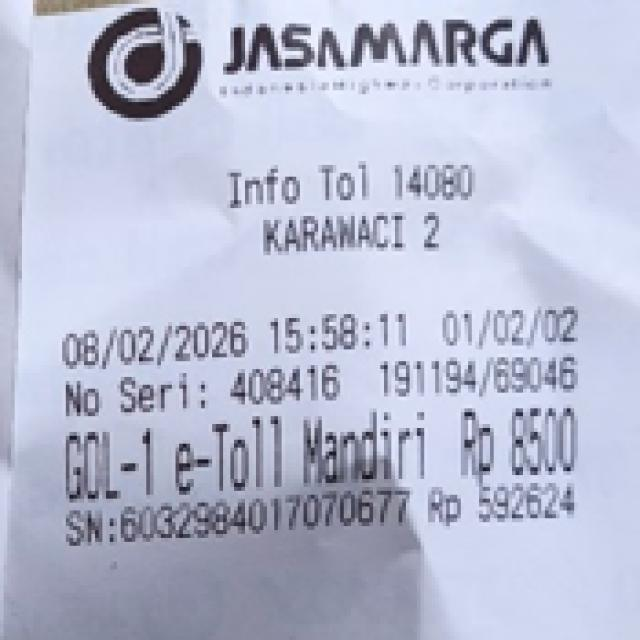date: (50, 314, 422, 357)
store: (226, 18, 557, 82)
total: (452, 408, 578, 482)
